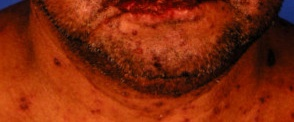SJS-TEN: (96, 0, 224, 25)
